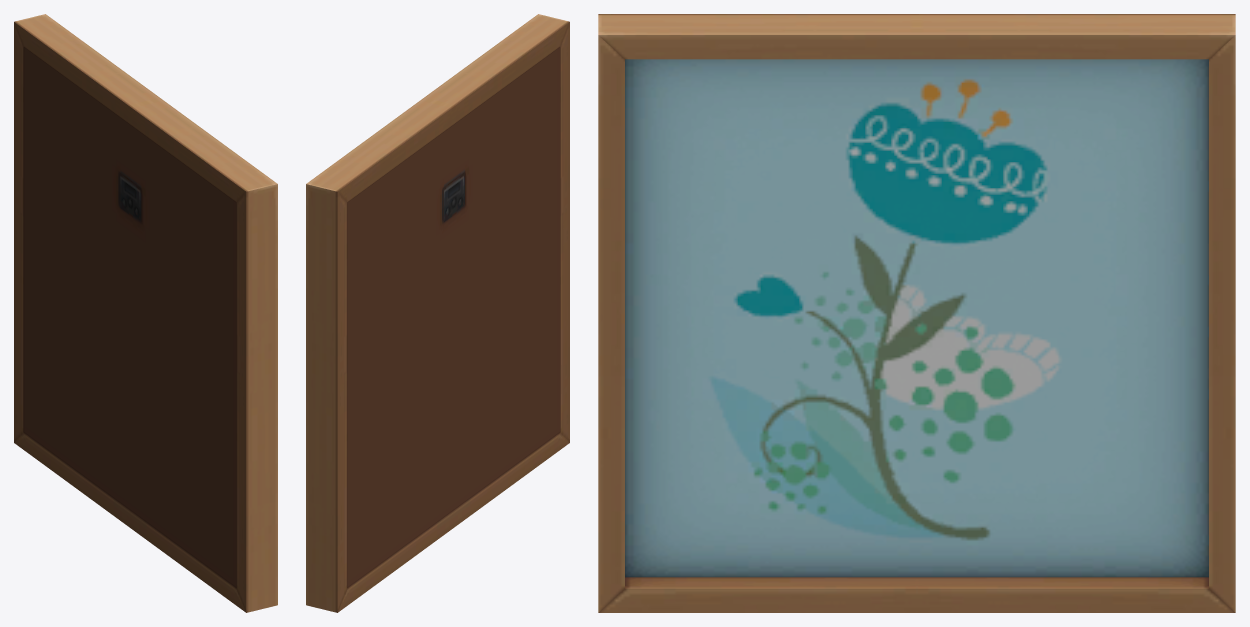
File: 简洁挂画.glb
3 views of the same model, side by side, from view 1: azimuth 30°, elevation 25°; view 2: azimuth 150°, elevation 25°; view 3: azimuth 270°, elevation 25° (orthographic). The views are drawn at different scales.
Parts seen in each view (by area): view 1: TinyLiving_SimpleandCleanArt_39; view 2: TinyLiving_SimpleandCleanArt_39; view 3: TinyLiving_SimpleandCleanArt_39.
Boxes of the visible parts, box(x1,y1,x2,y2) form: TinyLiving_SimpleandCleanArt_39: box(14, 14, 277, 612); TinyLiving_SimpleandCleanArt_39: box(306, 14, 569, 612); TinyLiving_SimpleandCleanArt_39: box(598, 14, 1235, 612).
Bounding box in the file's own units: 0.0663 × 0.8445 × 0.8444.
1 material, 1 textured.
